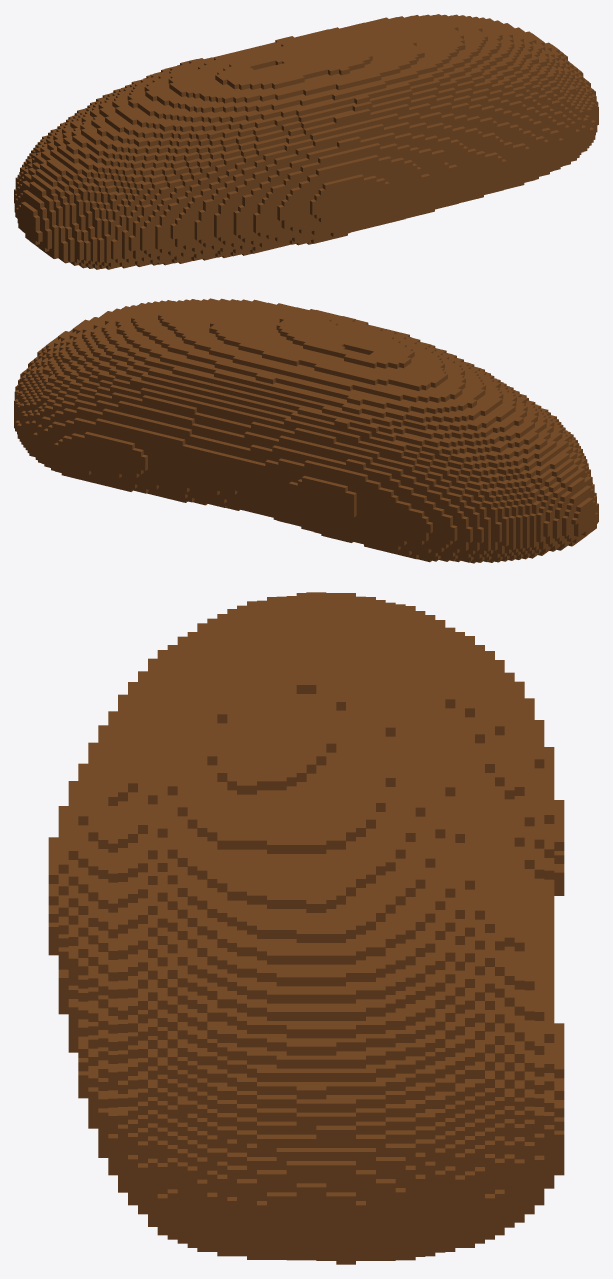
File: Bread Loaf Full.obj
3 views of the same model, one above another, from view 1: azimuth 30°, elevation 25°; view 2: azimuth 150°, elevation 25°; view 3: azimuth 270°, elevation 25° (orthographic). The views are drawn at different scales.
Size of the model in its own units: 12.8 by 3.2 by 5.2.
1 material, 1 textured.
